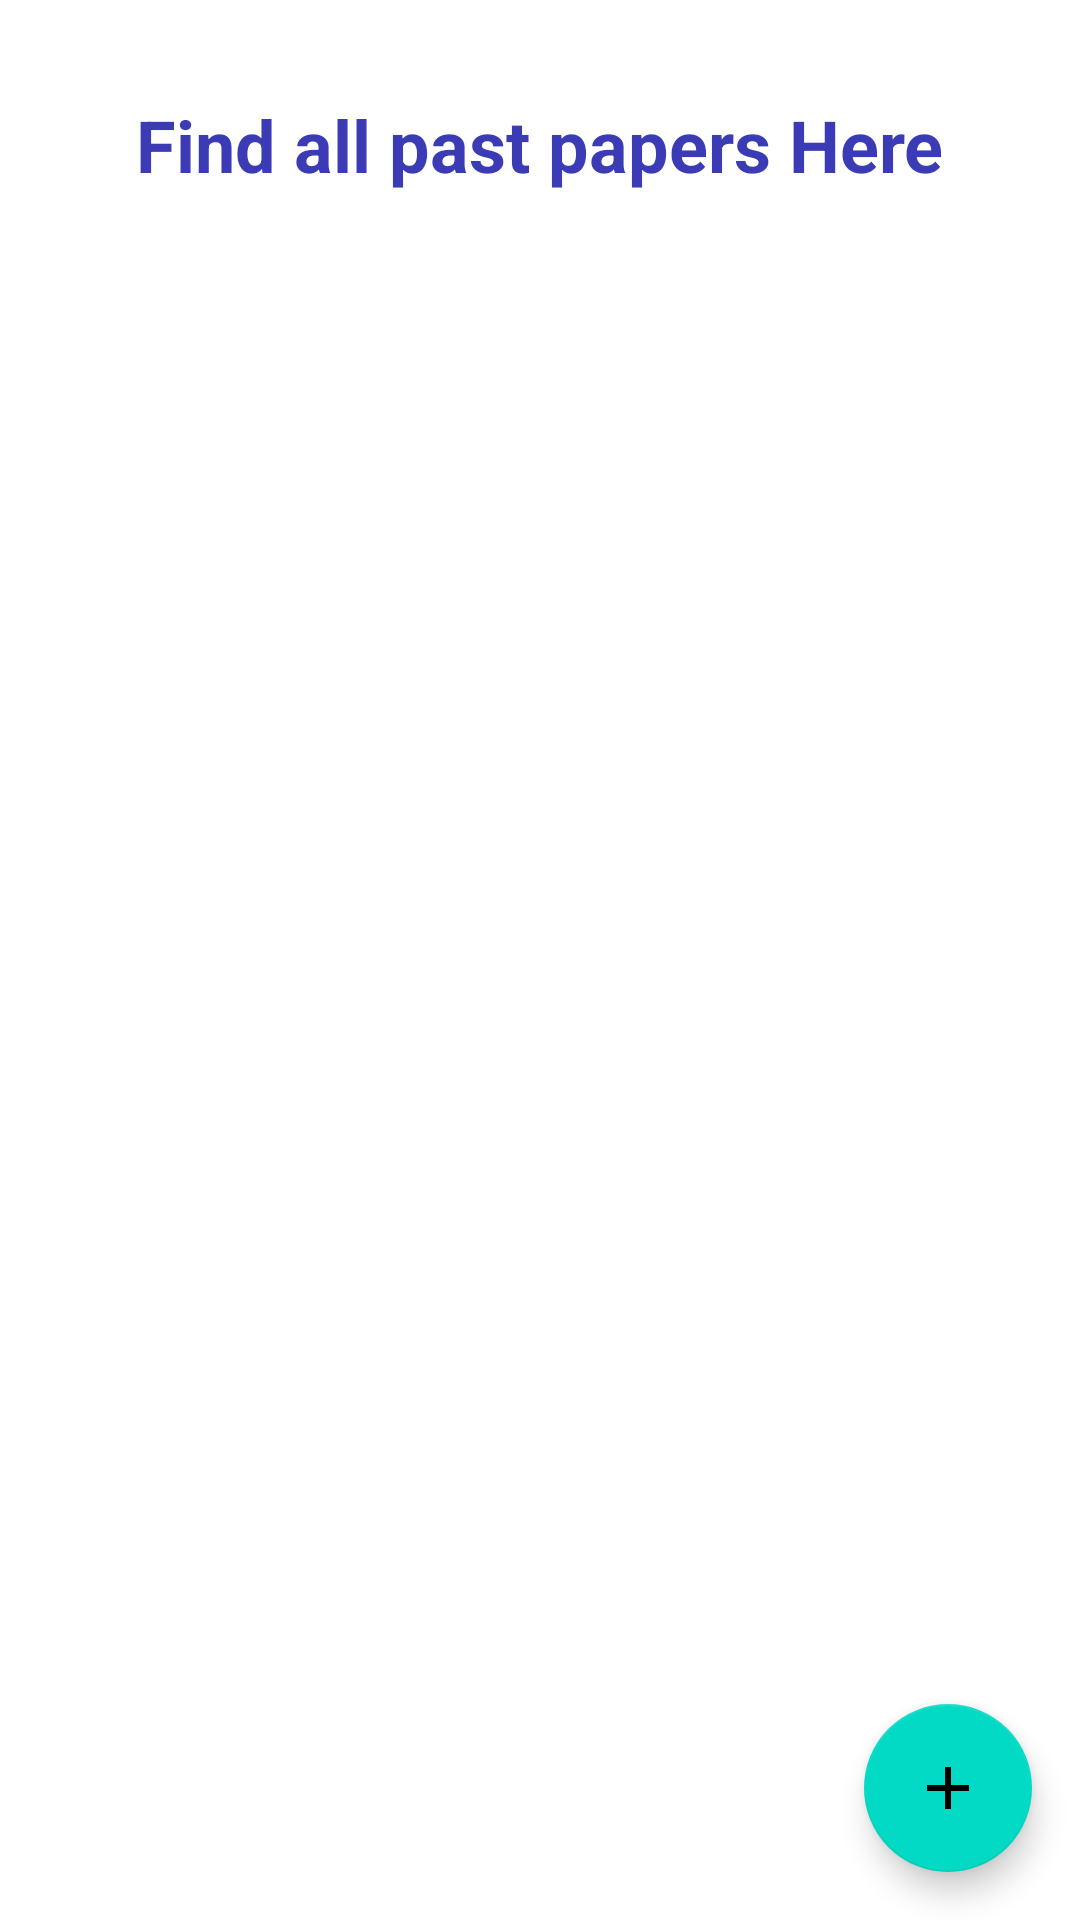

Screen size 1080px×1920px. Icon name, then its box in pixels as {"left": x1, "top": y1, "right": x2, "bottom": y2}:
Add past paper icon: {"left": 864, "top": 1704, "right": 1032, "bottom": 1872}
